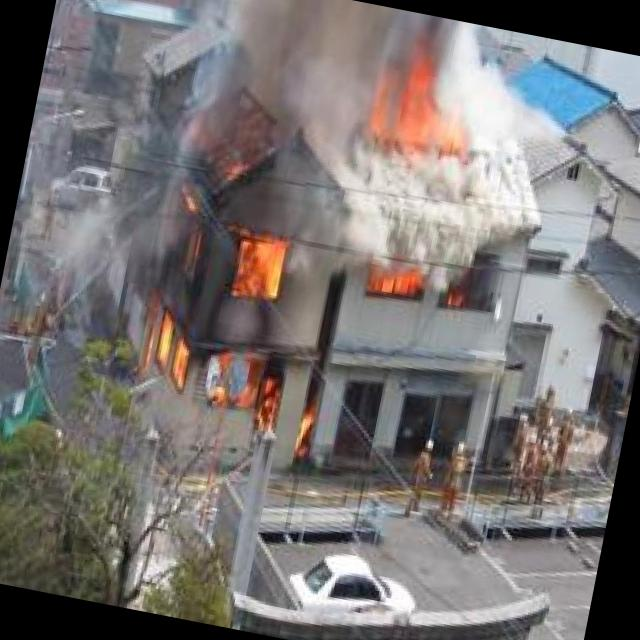Fire: (122, 189, 325, 449), (126, 190, 315, 426), (366, 60, 486, 165), (360, 252, 431, 305), (360, 261, 438, 307)
Smoke: (208, 0, 607, 264)
